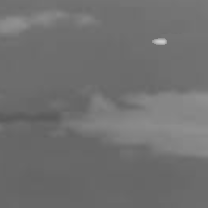Target: (151, 37, 168, 46)
